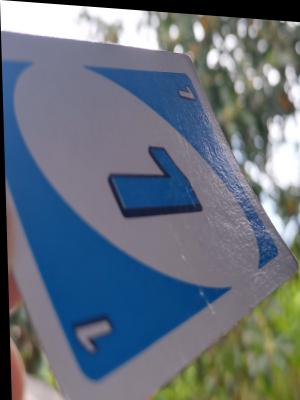blue: (7, 67, 201, 302)
num_1: (69, 308, 119, 360), (175, 77, 198, 104)
